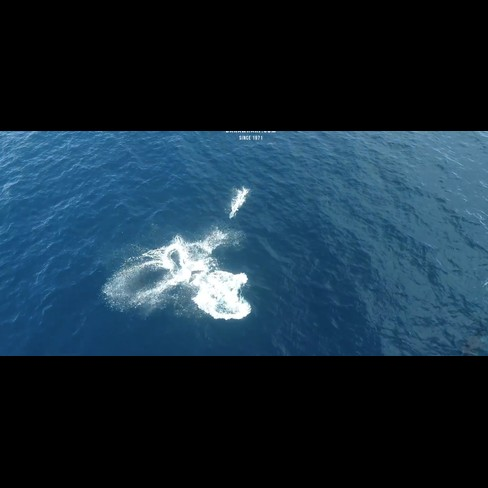orca: (160, 241, 254, 321)
